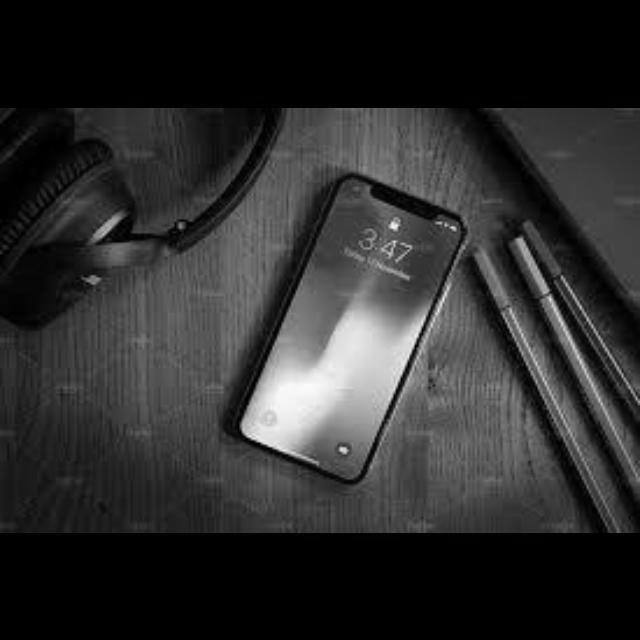fake: (226, 164, 480, 484)
